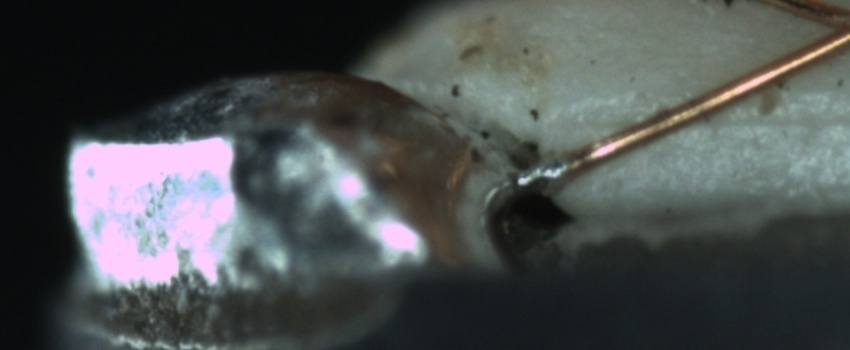CL: (800, 1, 849, 61)
DL: (603, 87, 849, 153)
TS: (516, 154, 573, 188)
